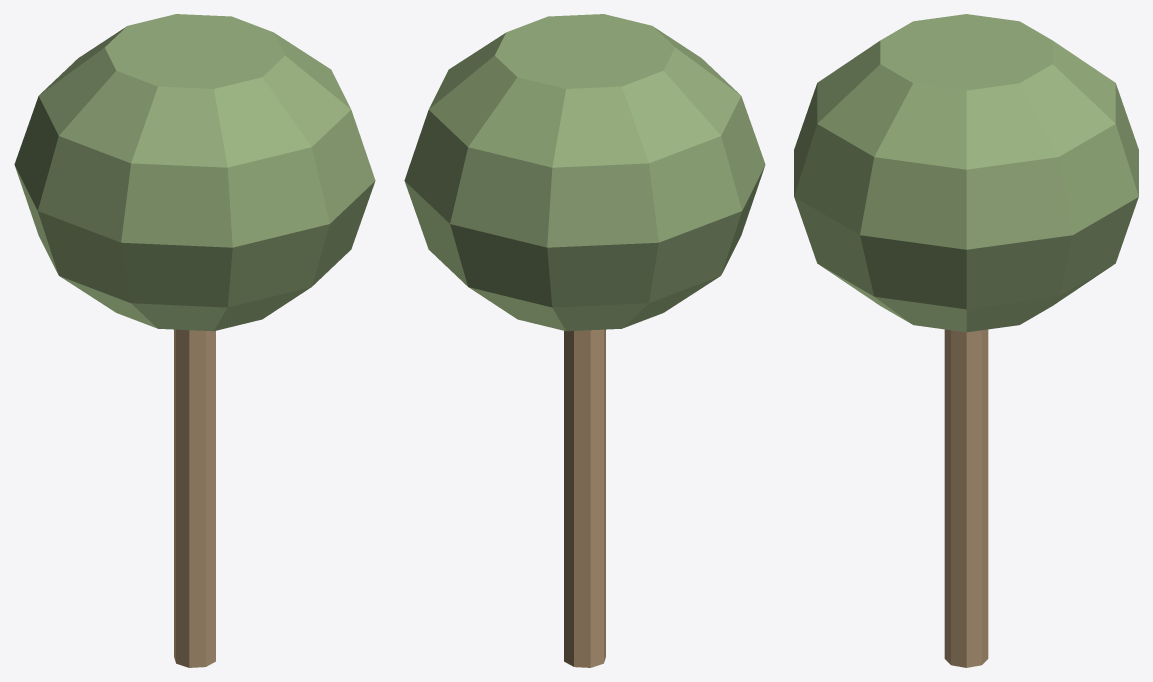
Rendered from oak-arch-7.glb.
The picture shows the model from 3 angles, left to right: view 1: azimuth 30°, elevation 25°; view 2: azimuth 150°, elevation 25°; view 3: azimuth 270°, elevation 25°; orthographic projection.
Parts seen in each view (by area): view 1: living roof, timber; view 2: living roof, timber; view 3: living roof, timber.
Boxes of the visible parts, <box> form: living roof: <box>14,14,375,331</box>; timber: <box>174,329,215,667</box>; living roof: <box>404,14,765,331</box>; timber: <box>564,329,605,667</box>; living roof: <box>794,14,1138,332</box>; timber: <box>944,329,988,667</box>.
Bounding box in the file's own units: 5.18 × 9.86 × 4.93.
